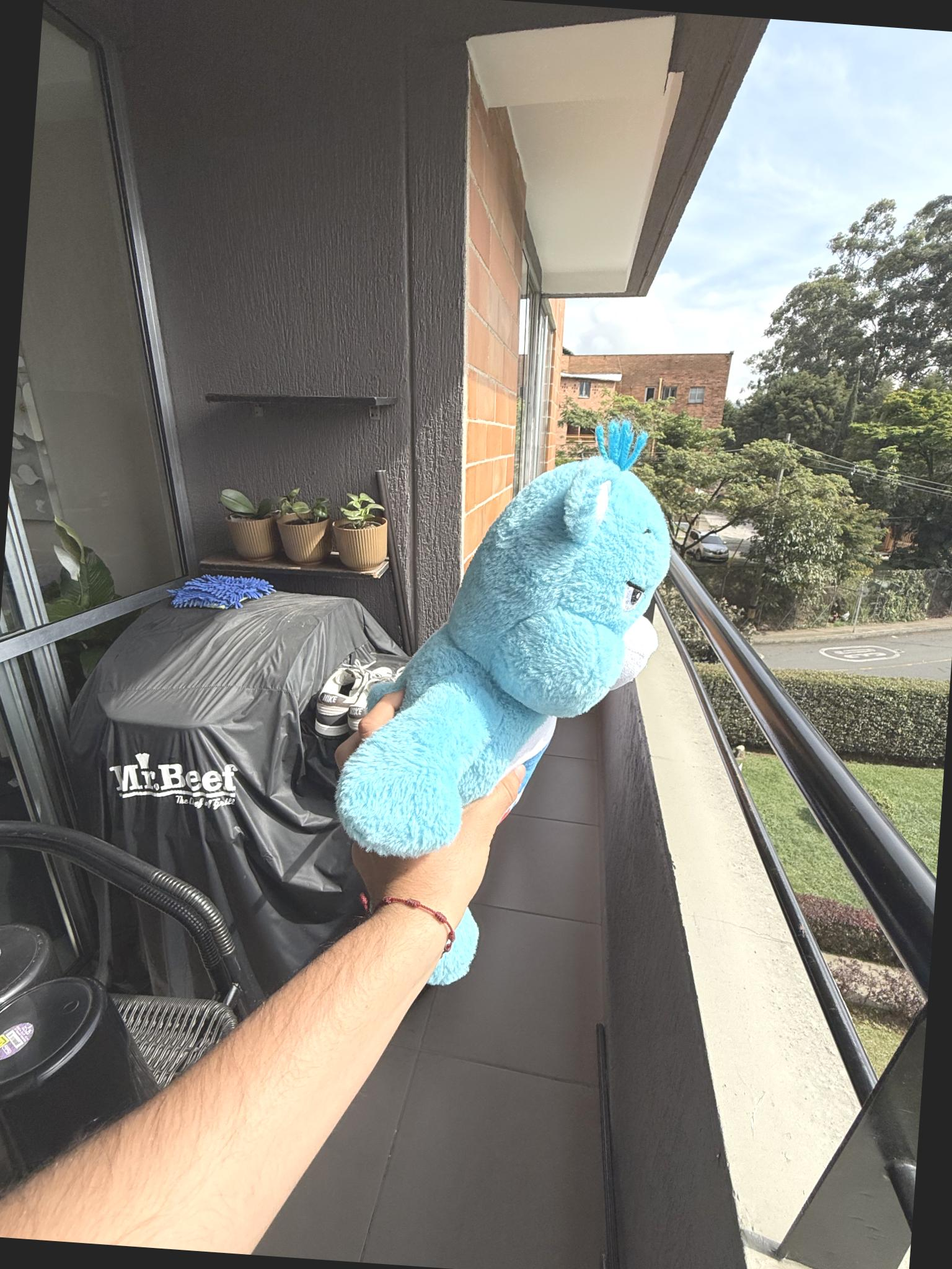peluche_Juan Jose: (322, 401, 683, 997)
